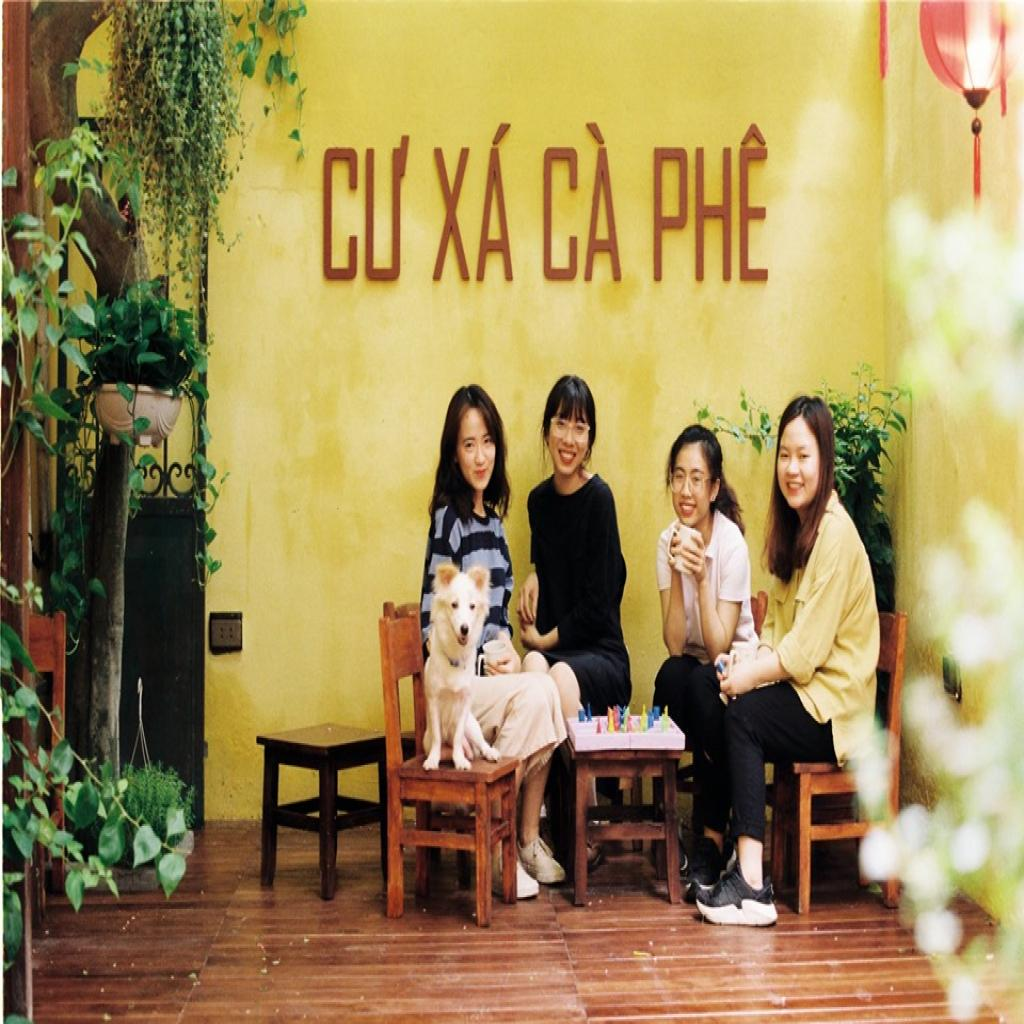text: (320, 128, 413, 288), (540, 118, 625, 288), (430, 119, 516, 286)
